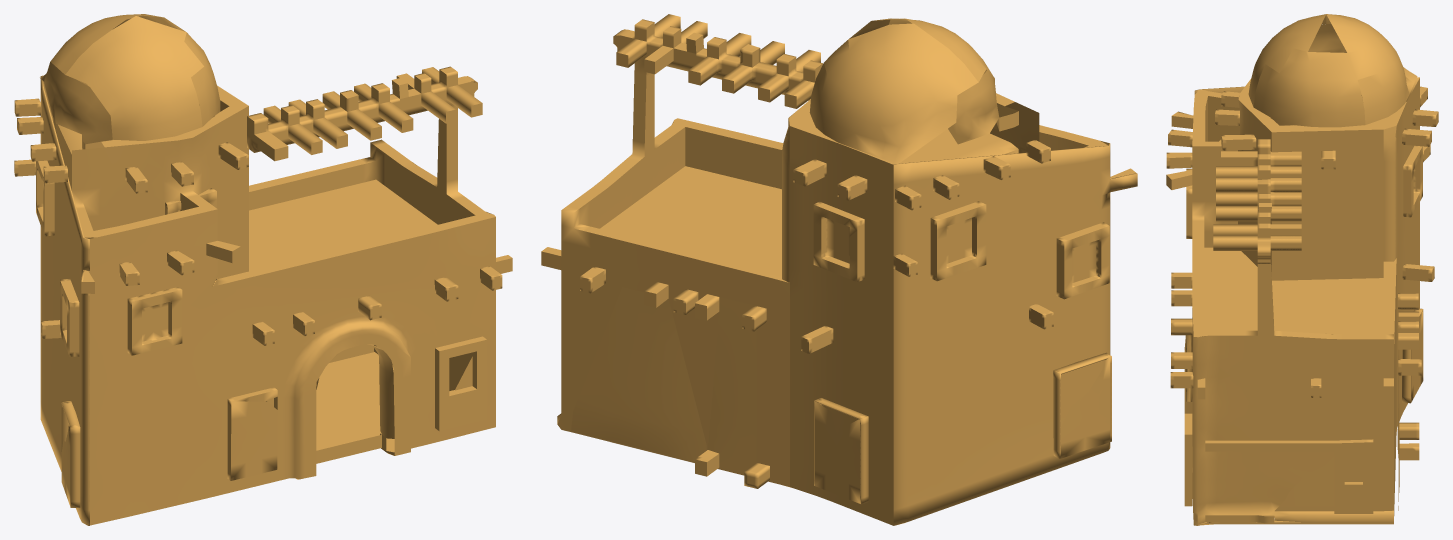
File: buildings_12.fbx
3 views of the same model, side by side, from view 1: azimuth 30°, elevation 25°; view 2: azimuth 150°, elevation 25°; view 3: azimuth 270°, elevation 25° (orthographic). The views are drawn at different scales.
Parts seen in each view (by area): view 1: Retopo_Adobe_Express_file_Three_dimensional_model_of_a__bd29 (×10); view 2: Retopo_Adobe_Express_file_Three_dimensional_model_of_a__bd29 (×8); view 3: Retopo_Adobe_Express_file_Three_dimensional_model_of_a__bd29 (×21).
Part boxes in pixels (x1,y1,x2,y2): Retopo_Adobe_Express_file_Three_dimensional_model_of_a__bd29 (×10): (36,14,512,525); Retopo_Adobe_Express_file_Three_dimensional_model_of_a__bd29 (×8): (541,14,1137,525); Retopo_Adobe_Express_file_Three_dimensional_model_of_a__bd29 (×21): (1166,14,1438,525).
Bounding box in the file's own units: 3038 × 2811 × 1806.
